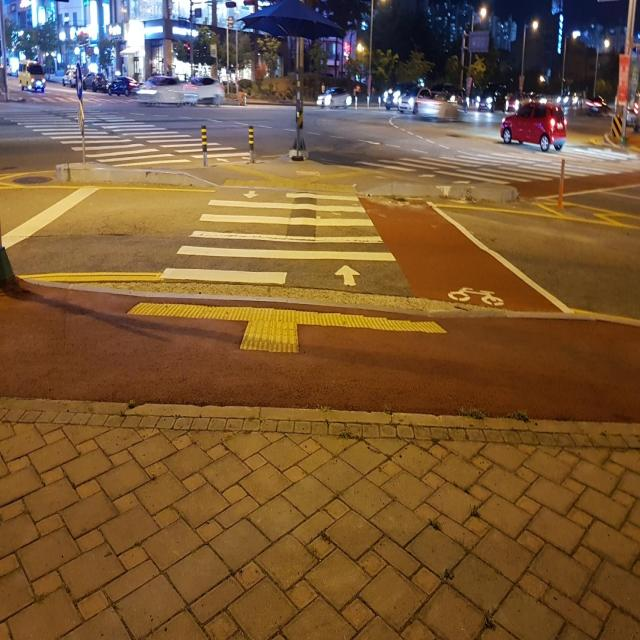횡단보도: (158, 187, 398, 288), (361, 132, 640, 188), (0, 104, 229, 170)
